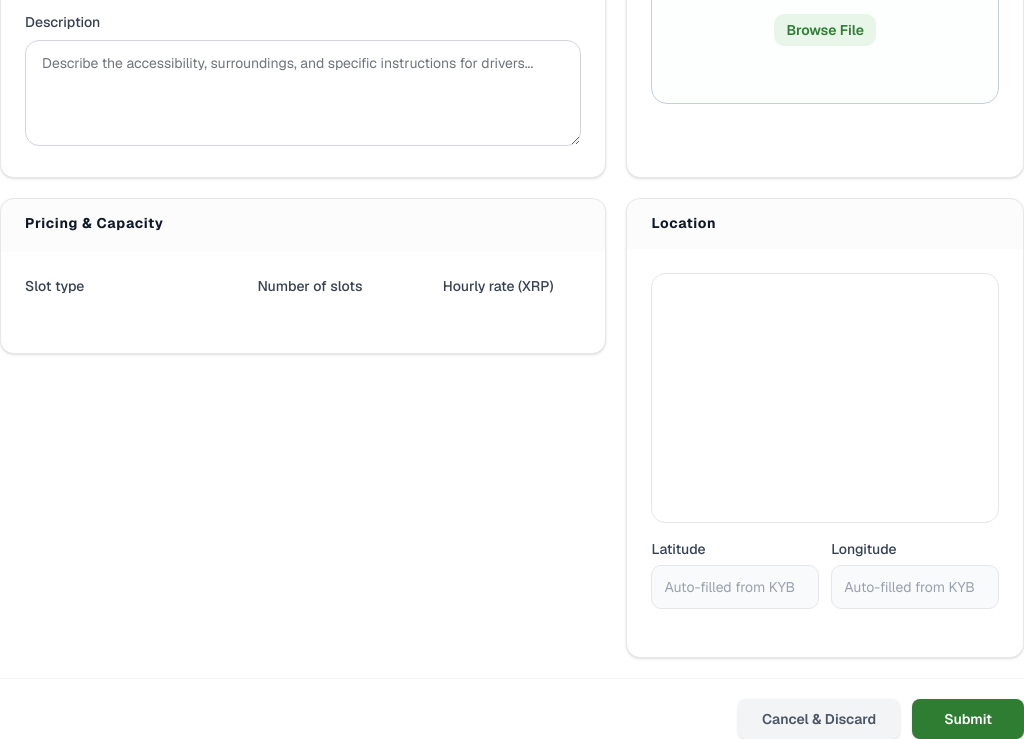
Test case: Main Component (Add New Spot) › Discard Flow › shows discard popup when form has data and cancel is clicked
(page scrolled)
Click the button "Cancel & Discard": [819, 718] box x1=738 y1=698 x2=900 y2=738
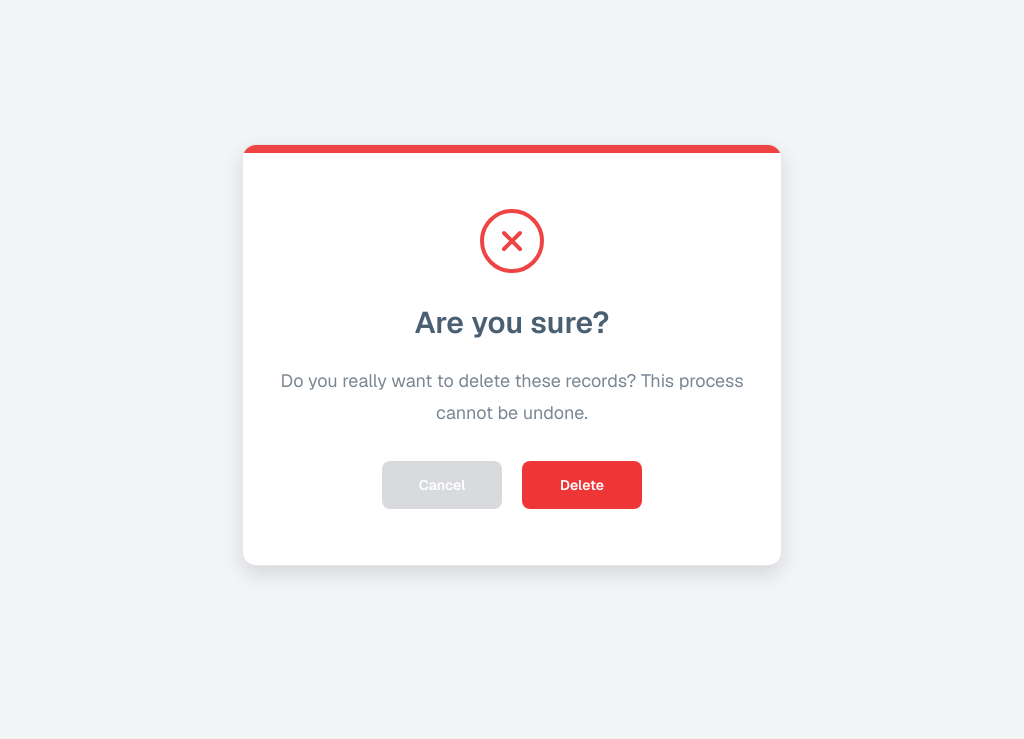
expect the heading "Are you sure?" is shown: met, box x1=415 y1=303 x2=609 y2=342
